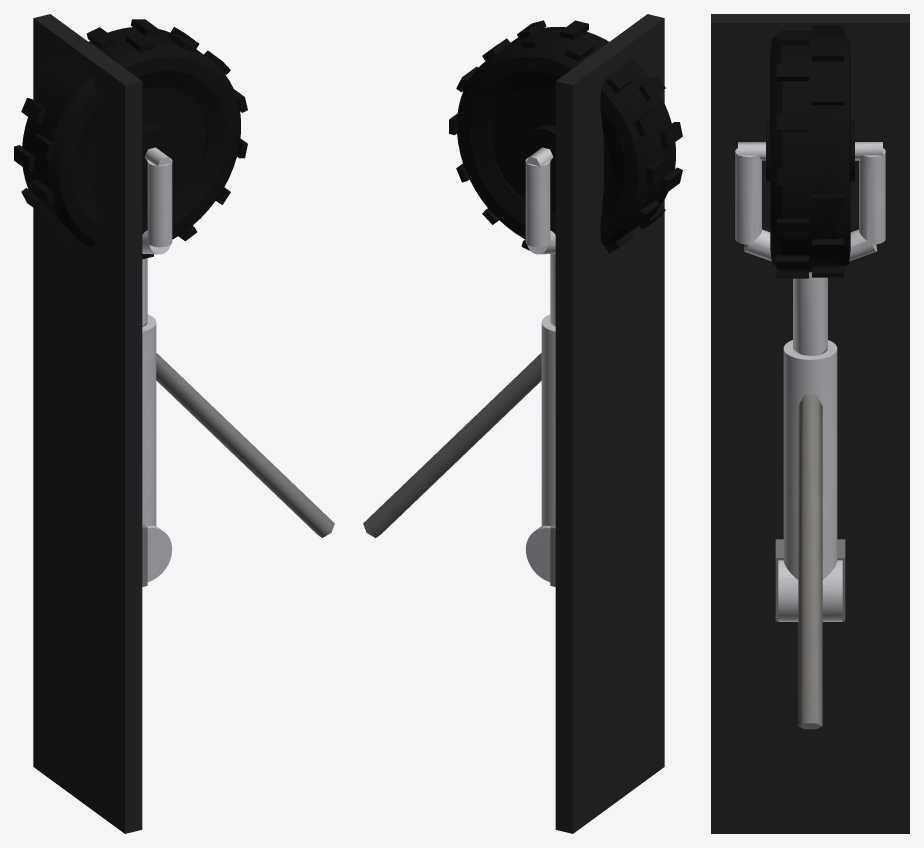
The model's file is jet10_landing_gear_s.glb.
The picture shows the model from 3 angles, left to right: view 1: azimuth 30°, elevation 25°; view 2: azimuth 150°, elevation 25°; view 3: azimuth 270°, elevation 25°; orthographic projection. The views are drawn at different scales.
Visible parts, largest first — view 1: mount_plate, wheel_1, drag_brace, oleo_strut, fork; view 2: mount_plate, wheel_1, drag_brace, oleo_strut, fork; view 3: mount_plate, wheel_1, oleo_strut, drag_brace, fork, trunnion, axle.
Part boxes in pixels (box(x1,y1,x2,y2)): mount_plate: box(33, 14, 142, 833); wheel_1: box(14, 19, 247, 259); drag_brace: box(156, 353, 334, 537); oleo_strut: box(142, 258, 172, 581); fork: box(142, 157, 172, 254); mount_plate: box(555, 14, 664, 833); wheel_1: box(449, 20, 682, 253); drag_brace: box(363, 353, 541, 537); oleo_strut: box(525, 254, 555, 581); fork: box(525, 157, 555, 254); mount_plate: box(711, 14, 909, 833); wheel_1: box(766, 25, 854, 278); oleo_strut: box(778, 272, 842, 621); drag_brace: box(798, 394, 822, 729); fork: box(735, 148, 885, 261); trunnion: box(775, 539, 845, 621); axle: box(738, 142, 882, 160).
Size of the model in its own units: 0.7041 by 1.68 by 0.37.
Materials: 4 (2 with a texture image).
